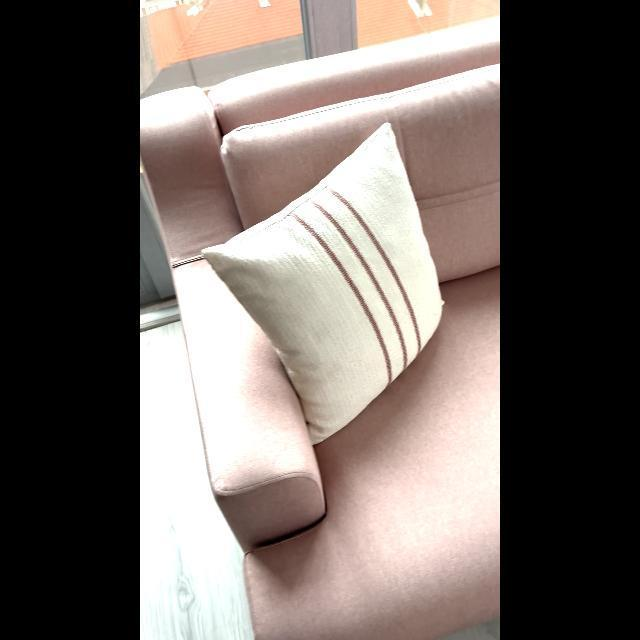throw pillow: (190, 106, 458, 452)
